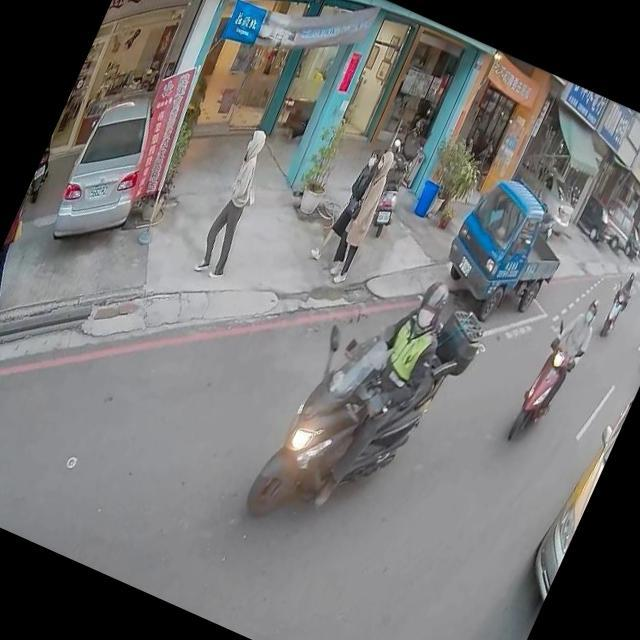person: (255, 238, 471, 532), (508, 286, 608, 442), (188, 125, 285, 284), (306, 137, 398, 276), (320, 144, 404, 286), (0, 201, 42, 319), (601, 267, 640, 332)
